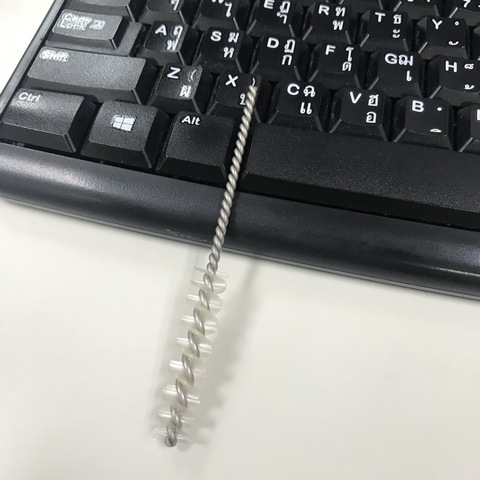Twist Brush-B: (149, 85, 262, 451)
